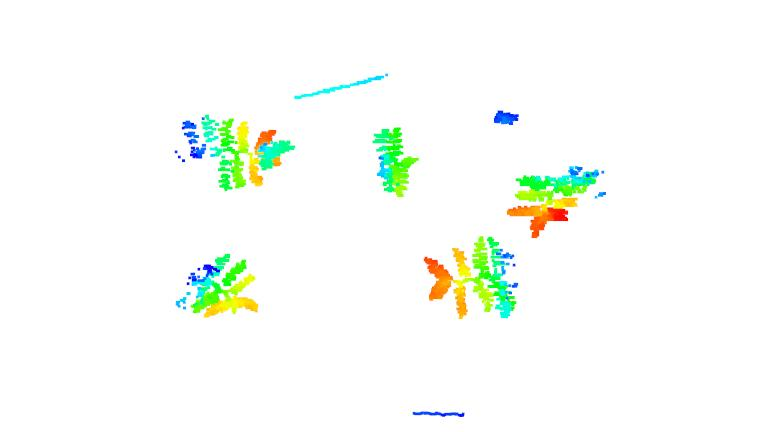chickpea: (180, 114, 296, 192), (422, 237, 522, 324), (505, 164, 600, 240), (177, 252, 260, 317), (372, 125, 420, 200)
